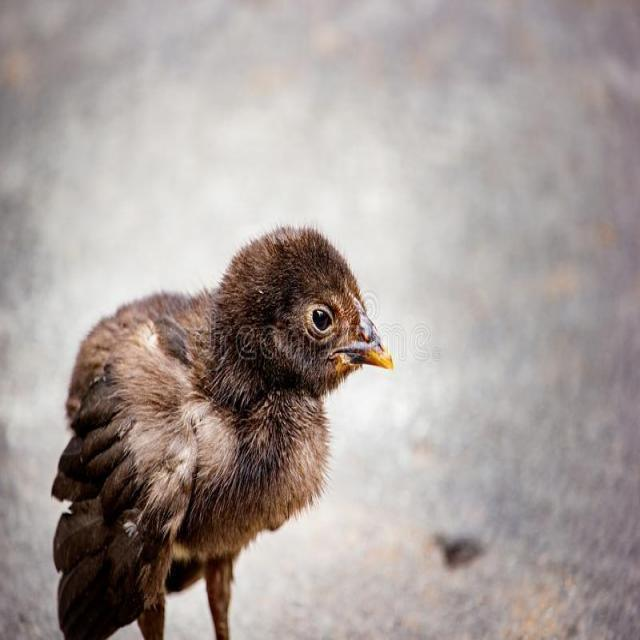poussin: (53, 225, 404, 640)
